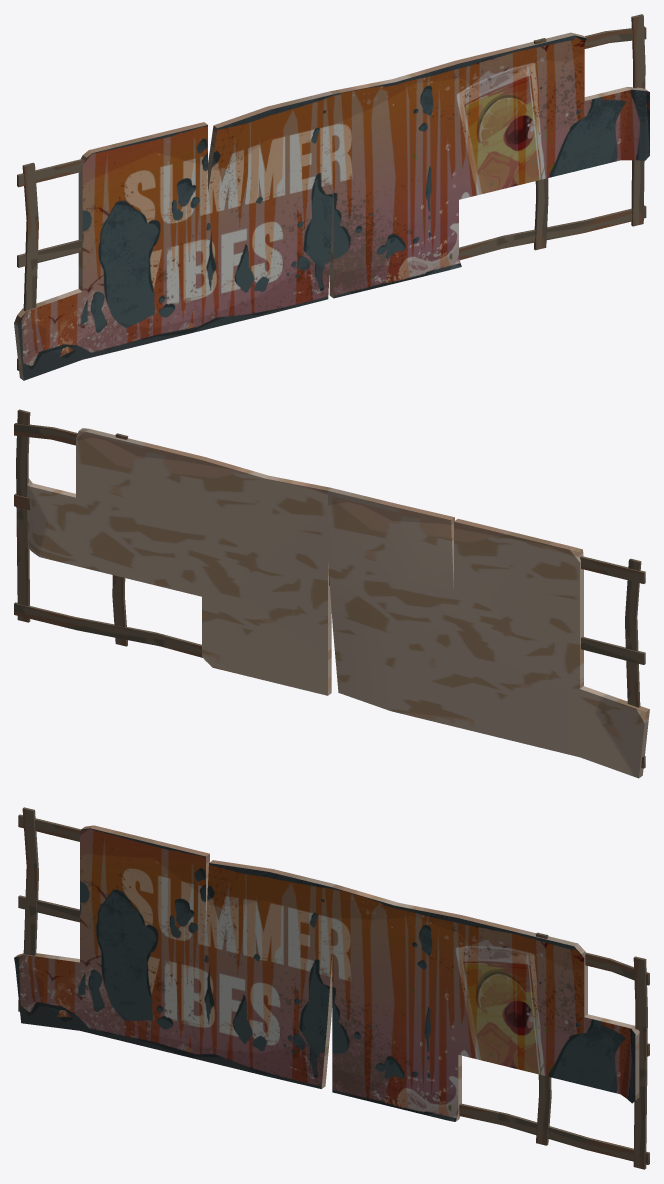
The model's file is SM_Prop_Sign_Billboard_Broken_01.obj.
3 renders of one model, top to bottom at view 1: azimuth 30°, elevation 25°; view 2: azimuth 150°, elevation 25°; view 3: azimuth 330°, elevation 25°, orthographic.
Visible parts, largest first — view 1: SM_Prop_Sign_Billboard_Broken_01_0, SM_Prop_Sign_Billboard_Broken_01_1; view 2: SM_Prop_Sign_Billboard_Broken_01_0, SM_Prop_Sign_Billboard_Broken_01_1; view 3: SM_Prop_Sign_Billboard_Broken_01_0, SM_Prop_Sign_Billboard_Broken_01_1.
Part boxes in pixels (x1,y1,x2,y2): SM_Prop_Sign_Billboard_Broken_01_0: [14, 32, 649, 380]; SM_Prop_Sign_Billboard_Broken_01_1: [17, 14, 646, 370]; SM_Prop_Sign_Billboard_Broken_01_0: [27, 428, 649, 778]; SM_Prop_Sign_Billboard_Broken_01_1: [14, 409, 645, 768]; SM_Prop_Sign_Billboard_Broken_01_0: [14, 825, 639, 1121]; SM_Prop_Sign_Billboard_Broken_01_1: [18, 807, 649, 1169].
Size of the model in its own units: 9.01 by 2.92 by 0.2763.
2 materials, 2 textured.
